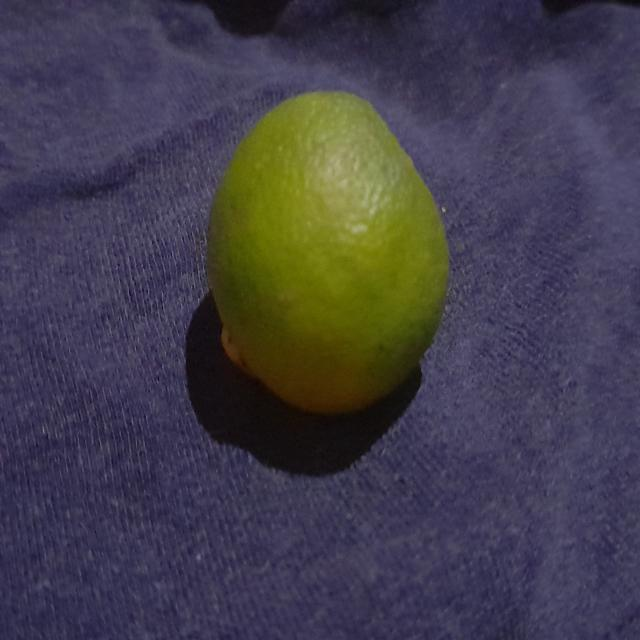heathy: (205, 82, 453, 415)
